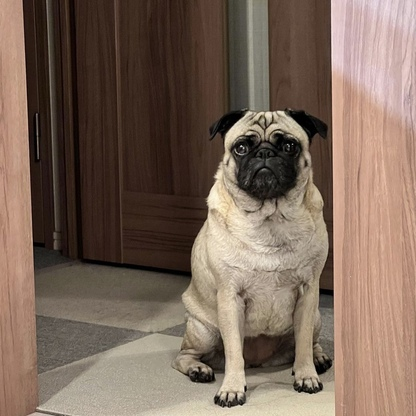Pug: (167, 106, 337, 412)
